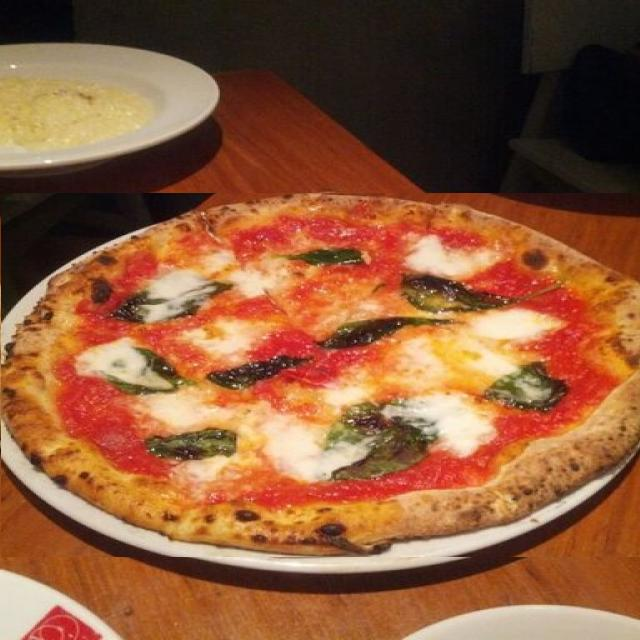basil: (209, 399, 307, 483), (78, 274, 241, 312), (410, 282, 536, 324), (176, 317, 325, 348), (73, 361, 159, 411), (328, 356, 434, 390), (463, 345, 532, 394), (404, 428, 496, 462), (274, 248, 368, 266)
pizza: (1, 193, 640, 557)
